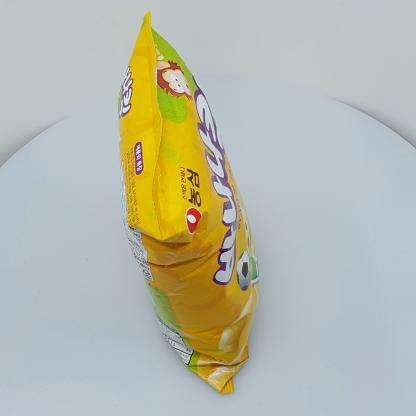Plastic Packaging: (107, 8, 278, 400)
